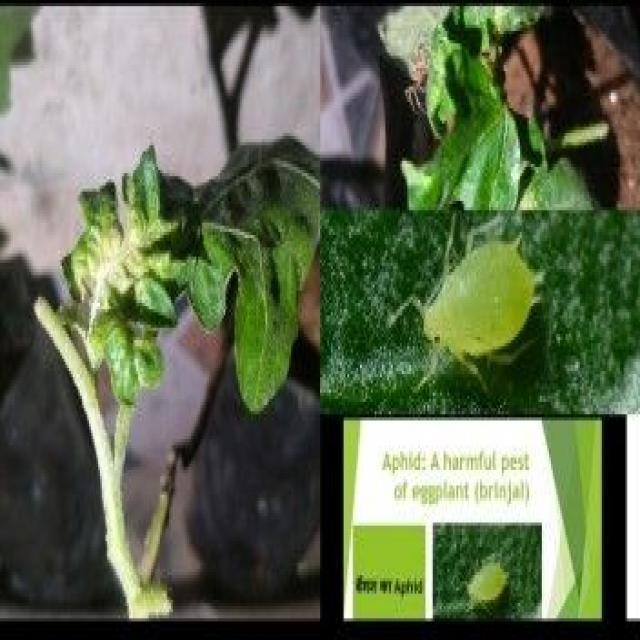Aphid-Grown-: (380, 212, 556, 400)
